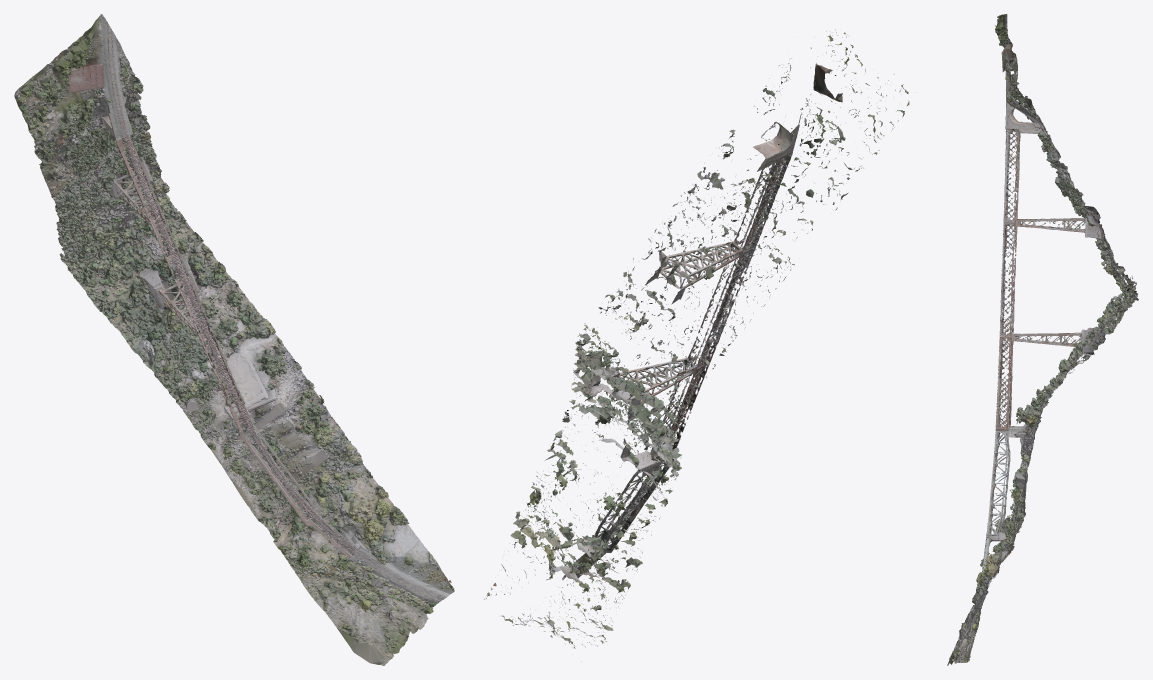
The model's file is model3_groot-treinviaduct.glb.
3 views of the same model, side by side, from view 1: azimuth 30°, elevation 25°; view 2: azimuth 150°, elevation 25°; view 3: azimuth 270°, elevation 25° (orthographic). The views are drawn at different scales.
Size of the model in its own units: 128 by 199 by 62.45.
